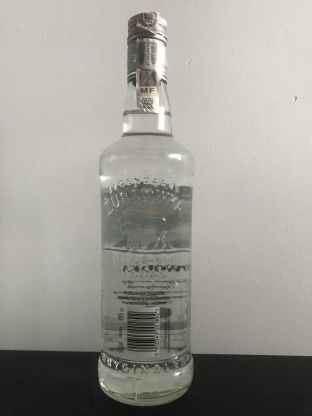nakretka: (125, 8, 169, 85)
